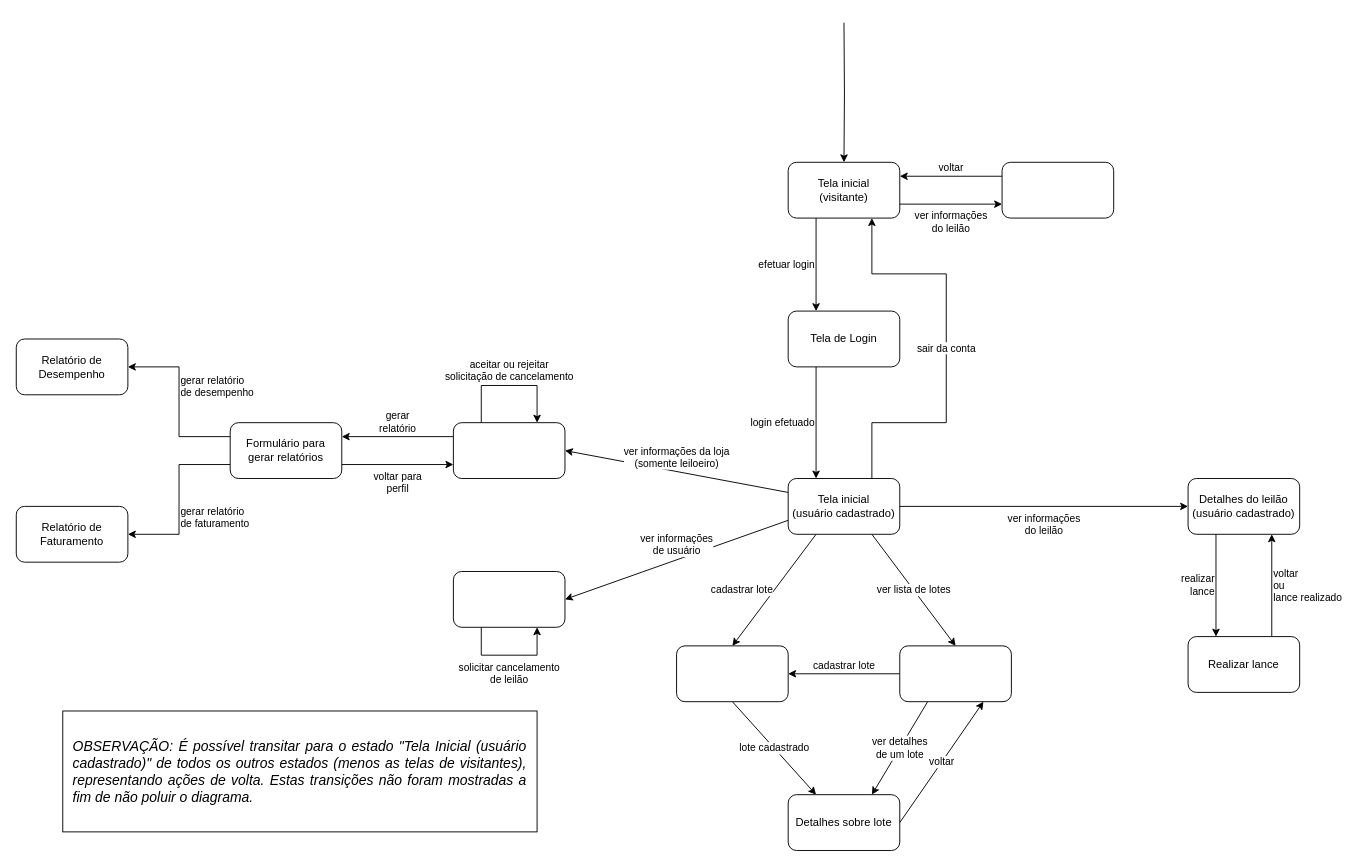
Image size: 1359x867. Some labels were removed from this diagram. Each missing label, with the centre of its shape:
Cadastro de Lote: (732,673)
Detalhes do leilão (visitante): (1057,189)
Lista de lotes: (955,673)
Perfil do Leiloeiro: (508,450)
Perfil do Usuário: (508,599)
